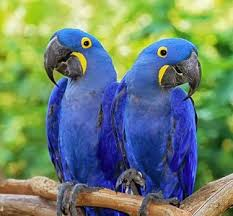guacamaya: (120, 26, 205, 216), (41, 26, 119, 216)
